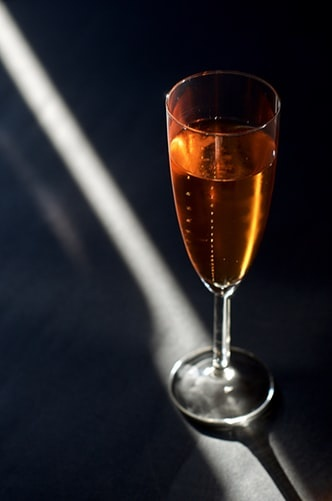whiskey: (160, 76, 279, 430)
